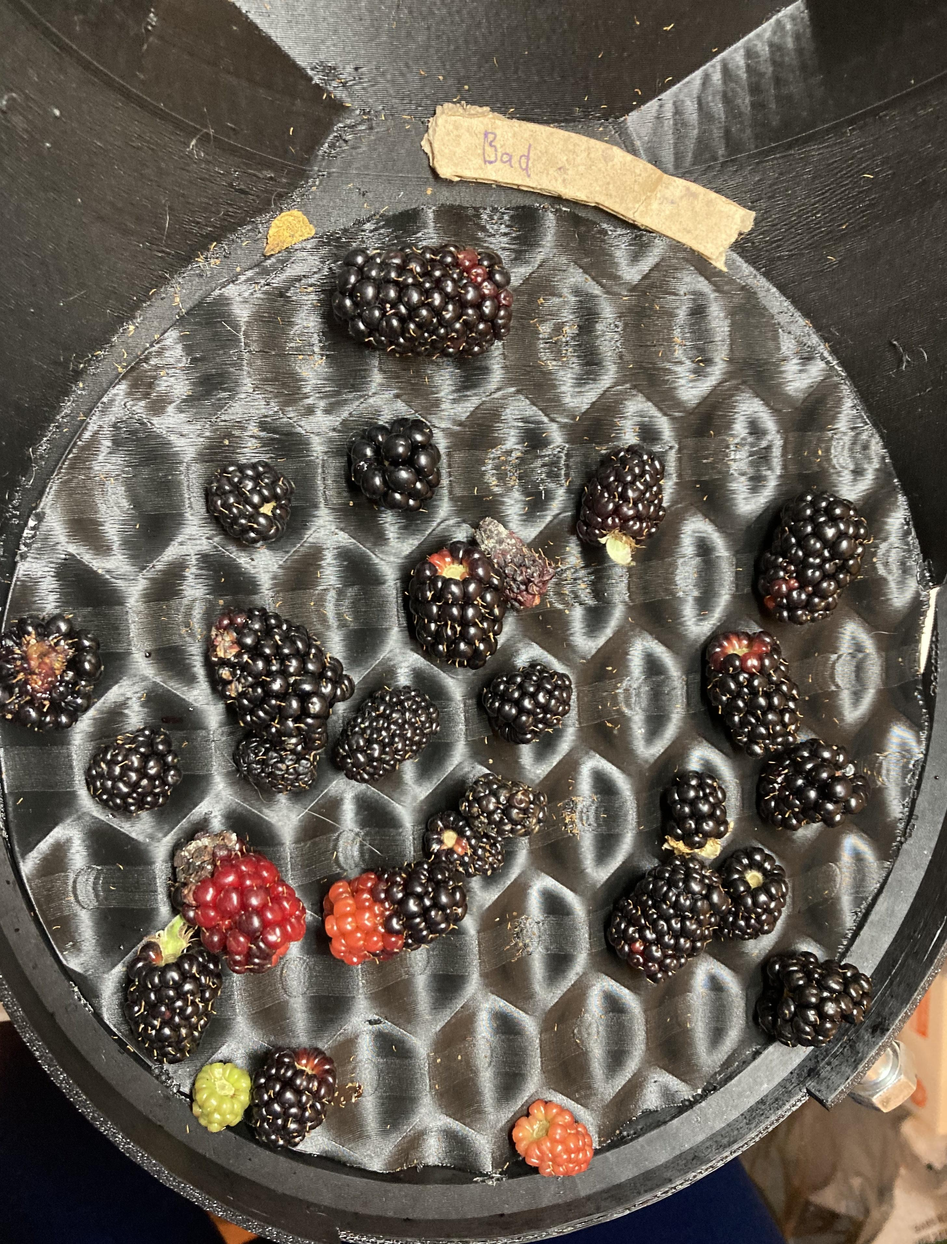berry: (208, 608, 354, 750), (331, 245, 513, 357), (174, 831, 306, 974), (607, 859, 730, 983), (323, 862, 467, 966), (757, 490, 868, 624), (124, 917, 222, 1063), (409, 541, 506, 669), (705, 631, 801, 758), (0, 615, 102, 730), (757, 952, 872, 1046), (577, 445, 666, 564), (334, 685, 440, 783), (758, 738, 870, 830), (250, 1048, 336, 1149), (86, 728, 181, 814), (351, 419, 440, 510), (206, 460, 294, 547), (481, 662, 573, 745), (474, 518, 556, 609), (718, 846, 788, 940), (512, 1100, 594, 1176), (663, 771, 730, 860), (460, 774, 547, 839), (423, 812, 504, 877), (234, 733, 317, 792), (192, 1062, 250, 1132)
